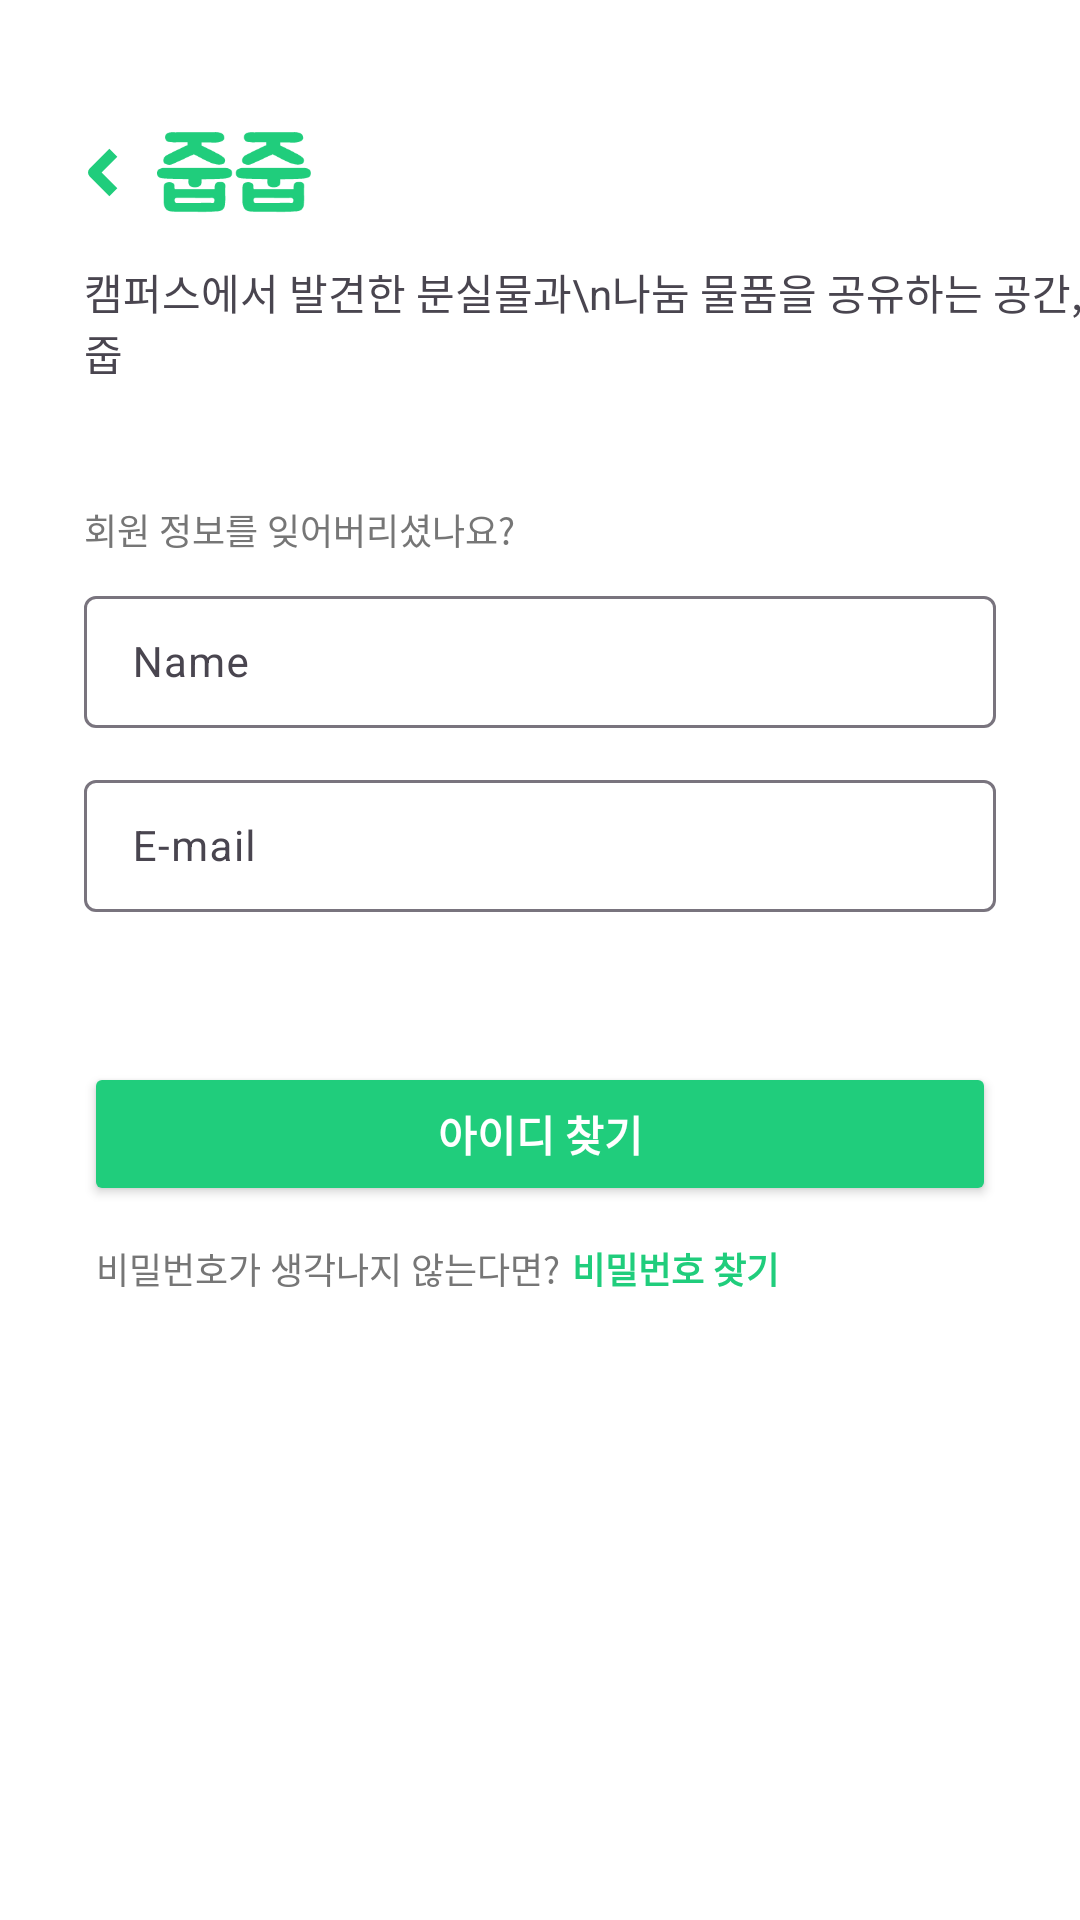

Screen size 1080 × 1920. Icon name, then its box in pixels as (left=x1, top=y1, right=x2, bottom=y2):
back: (left=88, top=149, right=117, bottom=196)
